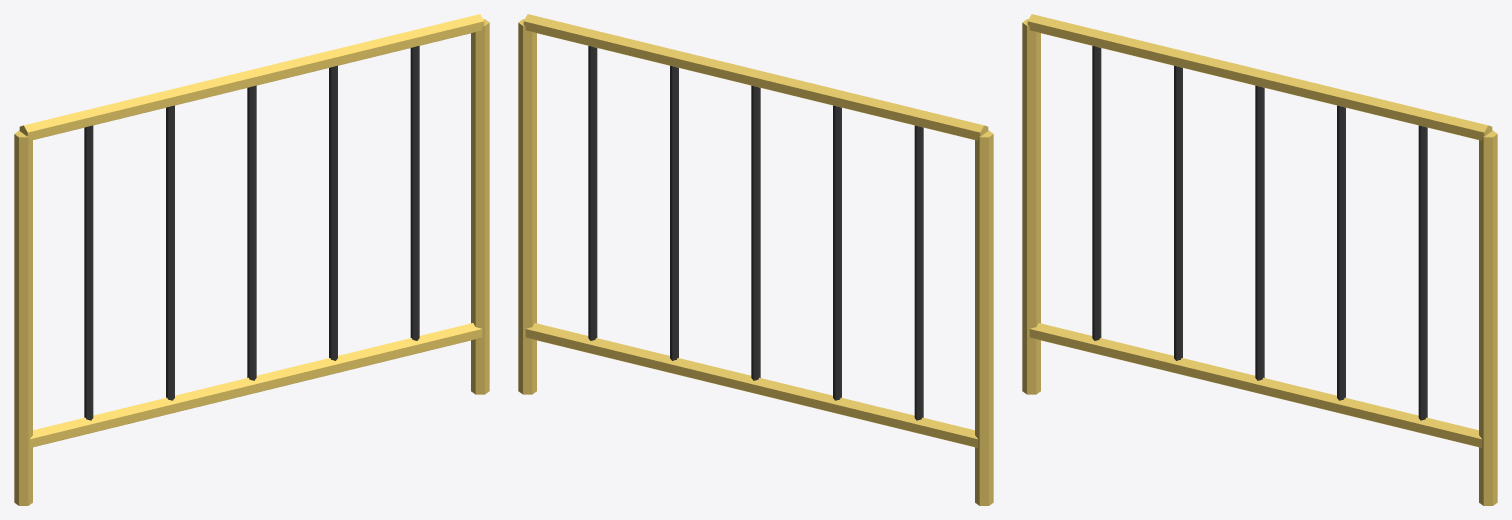
The picture shows the model from 3 angles, left to right: view 1: azimuth 30°, elevation 25°; view 2: azimuth 150°, elevation 25°; view 3: azimuth 330°, elevation 25°; orthographic projection.
Visible parts, largest first — view 1: Rail.001, Rail, Upright, Upright.001, Guard bar, Guard bar.002, Guard bar.004, Guard bar.001, Guard bar.003; view 2: Rail.001, Rail, Upright, Upright.001, Guard bar, Guard bar.002, Guard bar.004, Guard bar.001, Guard bar.003; view 3: Rail.001, Rail, Upright.001, Upright, Guard bar.002, Guard bar.004, Guard bar, Guard bar.003, Guard bar.001.
Boxes of the visible parts, bbox=[...] form: Rail.001: bbox=[19, 14, 484, 140]; Rail: bbox=[29, 323, 482, 447]; Upright: bbox=[14, 130, 32, 505]; Upright.001: bbox=[471, 19, 489, 394]; Guard bar: bbox=[84, 125, 93, 420]; Guard bar.002: bbox=[247, 85, 256, 380]; Guard bar.004: bbox=[410, 46, 419, 340]; Guard bar.001: bbox=[166, 105, 174, 400]; Guard bar.003: bbox=[329, 65, 337, 360]; Rail.001: bbox=[523, 14, 988, 140]; Rail: bbox=[525, 323, 978, 447]; Upright: bbox=[975, 130, 993, 505]; Upright.001: bbox=[518, 19, 536, 394]; Guard bar: bbox=[914, 125, 923, 420]; Guard bar.002: bbox=[751, 85, 760, 380]; Guard bar.004: bbox=[588, 46, 597, 340]; Guard bar.001: bbox=[833, 105, 841, 400]; Guard bar.003: bbox=[670, 65, 678, 360]; Rail.001: bbox=[1027, 14, 1492, 140]; Rail: bbox=[1029, 323, 1482, 447]; Upright.001: bbox=[1479, 130, 1497, 505]; Upright: bbox=[1022, 19, 1040, 394]; Guard bar.002: bbox=[1255, 85, 1264, 380]; Guard bar.004: bbox=[1418, 125, 1427, 420]; Guard bar: bbox=[1092, 46, 1101, 340]; Guard bar.003: bbox=[1337, 105, 1345, 400]; Guard bar.001: bbox=[1174, 65, 1182, 360].
Bounding box in the file's own units: 1.44 × 1.11 × 0.05.
Materials: 1 (1 with a texture image).
